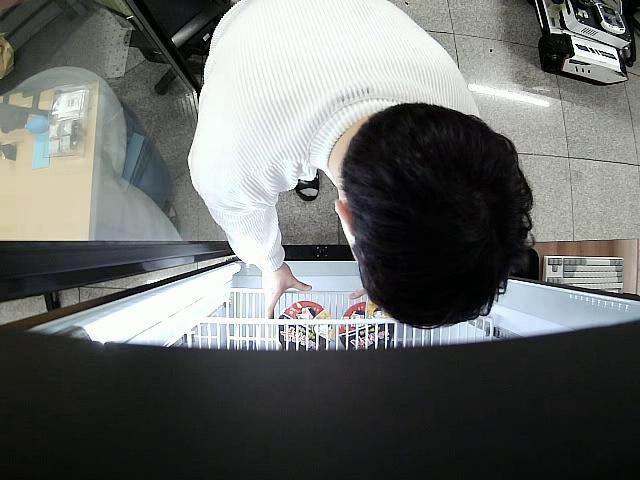07_buldak_L: (276, 300, 334, 350)
